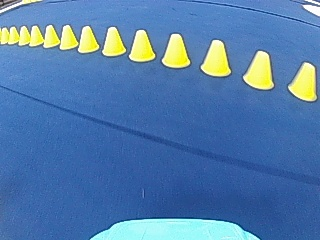cone: (243, 48, 275, 90), (201, 38, 232, 77), (288, 60, 316, 101), (162, 32, 191, 68), (130, 28, 156, 62), (102, 25, 126, 56), (78, 24, 99, 53), (59, 25, 78, 49), (43, 24, 59, 47), (29, 25, 44, 46), (18, 26, 31, 45), (8, 27, 19, 43), (0, 27, 9, 43)
